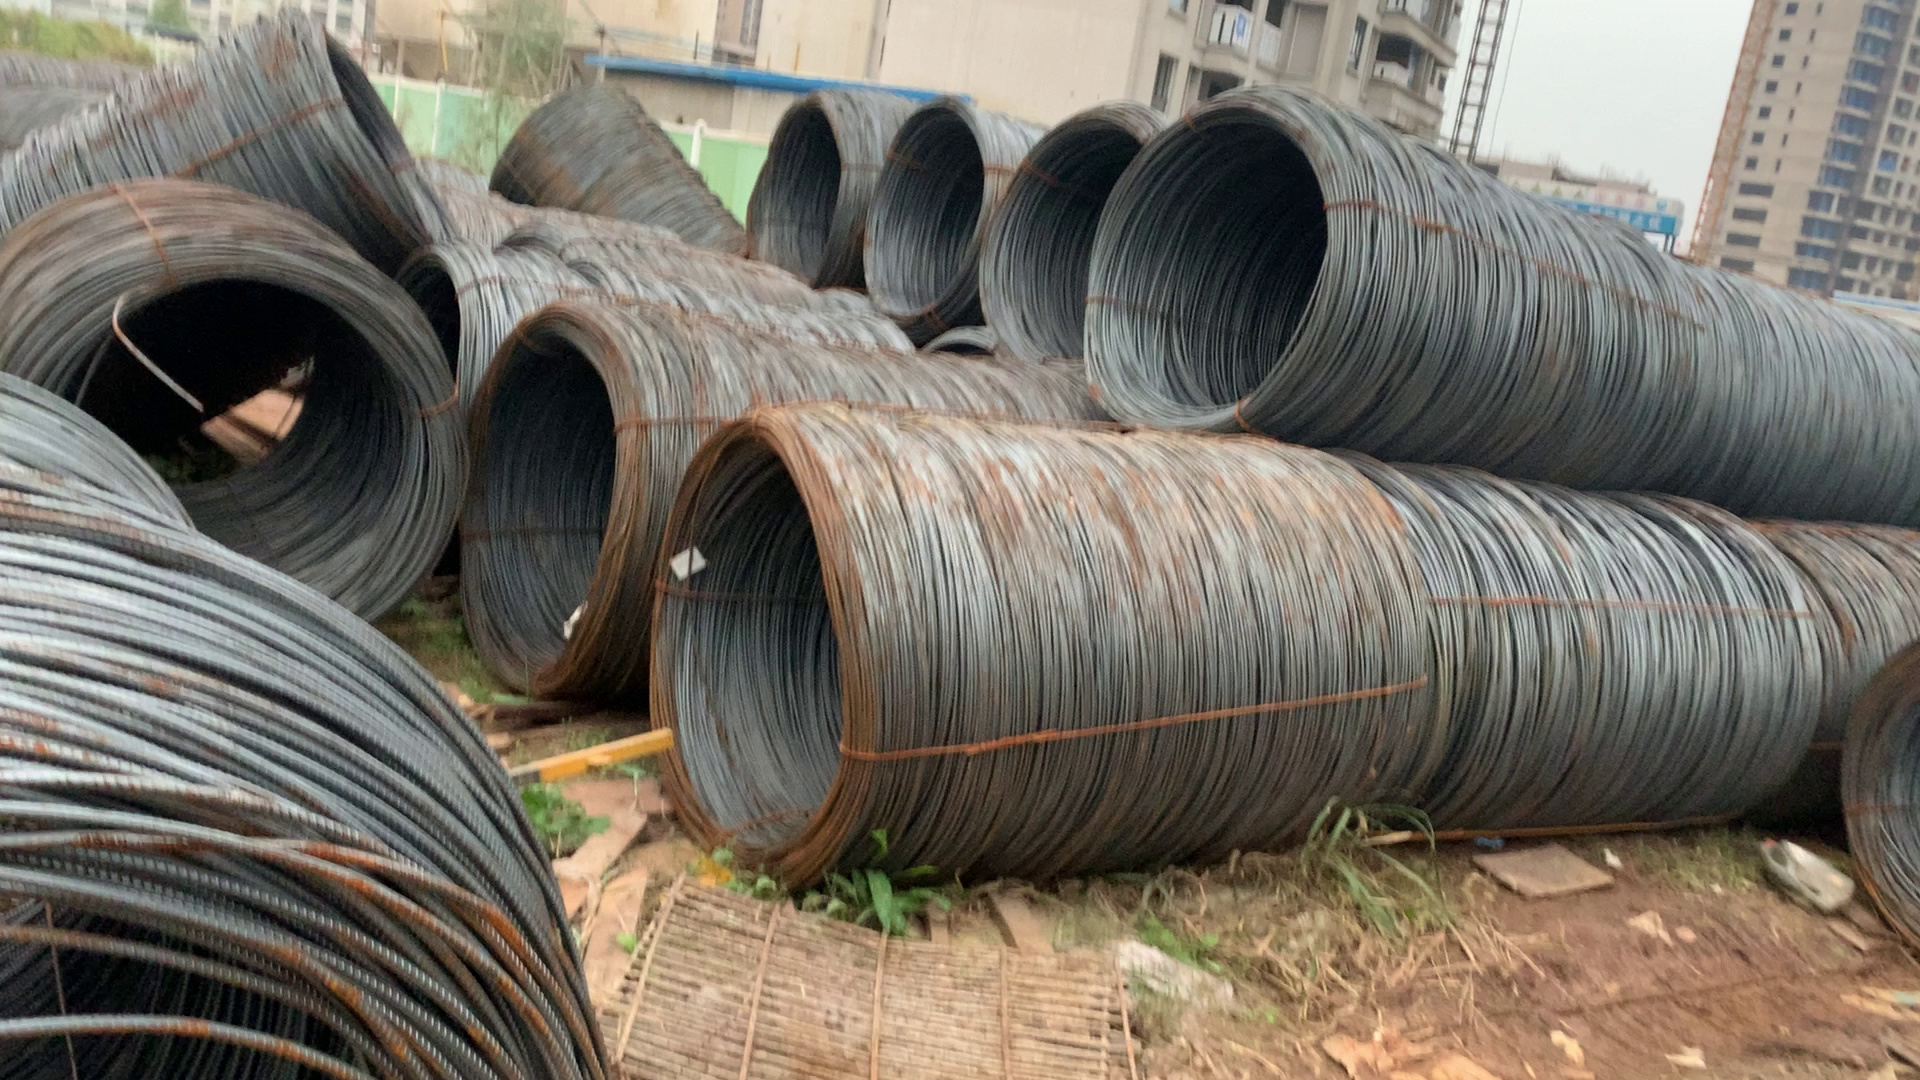coil: (57, 252, 458, 618), (663, 425, 880, 872), (1083, 107, 1352, 425), (463, 310, 632, 674), (290, 11, 491, 316), (990, 109, 1153, 371), (857, 102, 978, 320), (749, 99, 847, 293)
